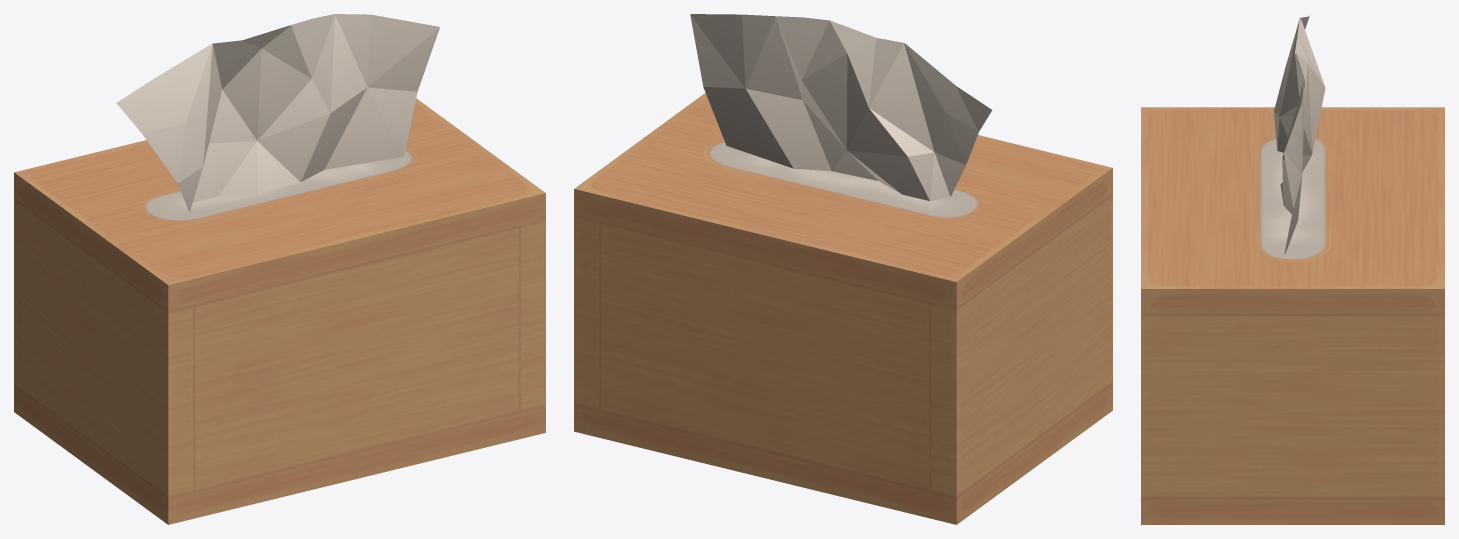
The model's file is P_TissueBox_001_S1_M03.obj.
The picture shows the model from 3 angles, left to right: view 1: azimuth 30°, elevation 25°; view 2: azimuth 150°, elevation 25°; view 3: azimuth 270°, elevation 25°; orthographic projection. The views are drawn at different scales.
Size of the model in its own units: 0.4227 by 0.4207 by 0.2991.
1 material, 1 textured.
